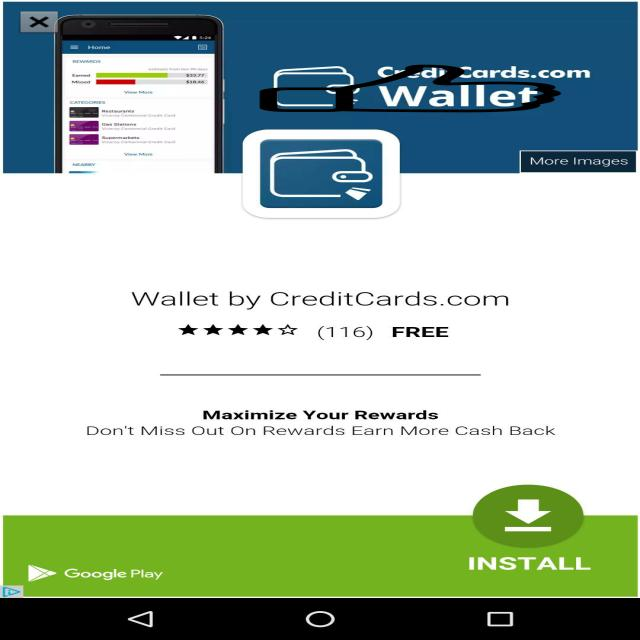privacy zuckering: (255, 65, 566, 112)
